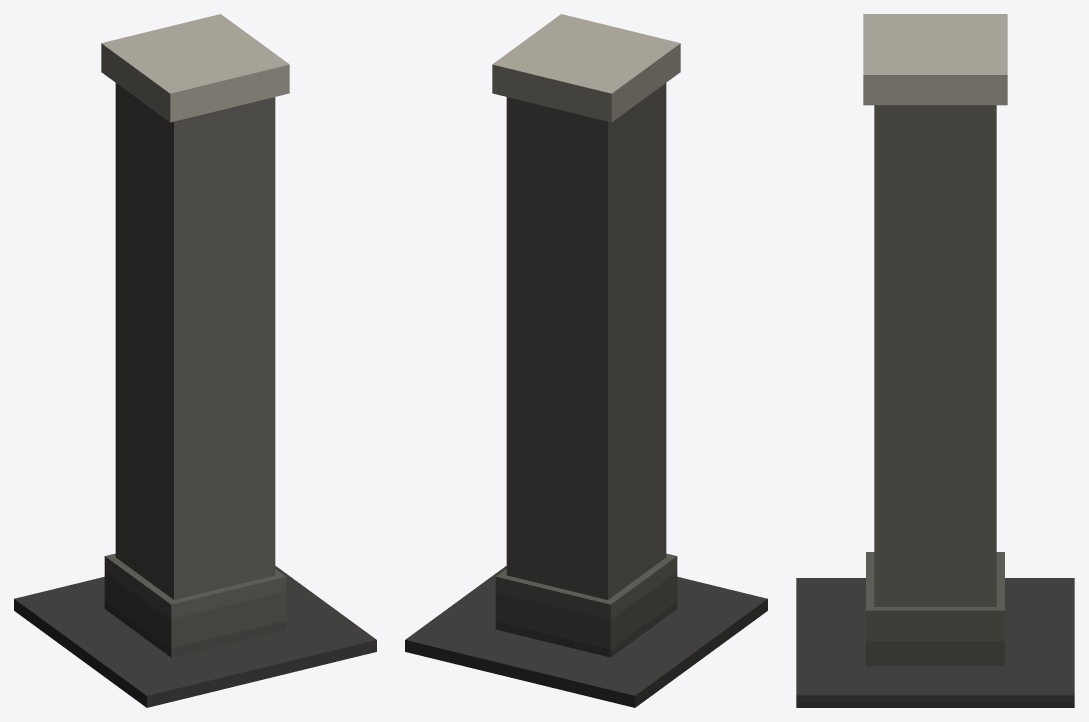
Rendered from model_45_stone.glb.
The picture shows the model from 3 angles, left to right: view 1: azimuth 30°, elevation 25°; view 2: azimuth 150°, elevation 25°; view 3: azimuth 270°, elevation 25°; orthographic projection. The views are drawn at different scales.
Bounding box in the file's own units: 1 × 2.4 × 1.
Materials: 1 (1 with a texture image).
